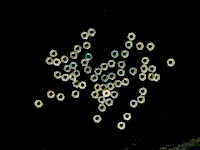nut: (146, 42, 155, 51), (139, 87, 148, 96), (102, 89, 111, 98), (94, 67, 103, 76), (167, 59, 176, 67), (148, 73, 157, 81), (141, 57, 150, 65), (139, 72, 147, 81), (138, 95, 146, 104), (136, 42, 145, 50), (128, 32, 136, 41), (130, 67, 138, 76), (124, 112, 132, 121), (121, 50, 130, 58), (117, 69, 126, 77), (114, 80, 123, 88), (108, 72, 116, 81), (107, 82, 115, 91), (110, 91, 119, 99), (106, 98, 114, 107), (100, 63, 109, 71), (101, 74, 109, 83), (98, 104, 107, 112), (93, 115, 102, 123), (94, 84, 103, 92), (91, 91, 100, 99), (85, 52, 93, 61), (83, 41, 91, 50), (81, 31, 89, 40), (74, 44, 82, 53), (70, 51, 78, 60), (72, 90, 80, 99), (149, 65, 157, 73), (141, 65, 149, 73), (130, 100, 138, 108), (118, 122, 126, 130), (125, 41, 133, 49), (122, 78, 130, 86), (118, 61, 126, 69), (111, 50, 119, 58), (108, 60, 116, 68), (98, 96, 106, 104), (91, 74, 99, 82), (84, 66, 92, 74), (88, 28, 96, 36), (79, 81, 87, 89), (73, 70, 81, 78), (69, 73, 77, 81), (61, 55, 69, 63), (54, 71, 62, 79), (57, 93, 65, 101), (53, 58, 61, 66), (50, 50, 58, 58), (46, 57, 54, 65), (47, 91, 55, 99), (35, 100, 43, 108), (69, 62, 78, 69), (61, 74, 70, 81), (81, 59, 89, 66), (73, 80, 80, 88), (64, 65, 71, 73), (155, 73, 161, 82), (101, 84, 107, 92)
